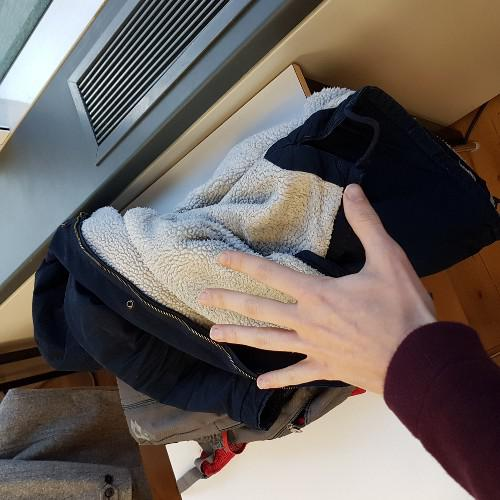paper: (194, 171, 470, 423)
